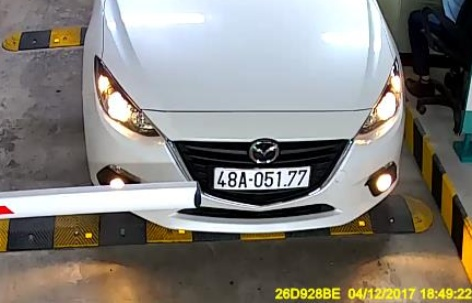plate: (208, 162, 310, 190)
